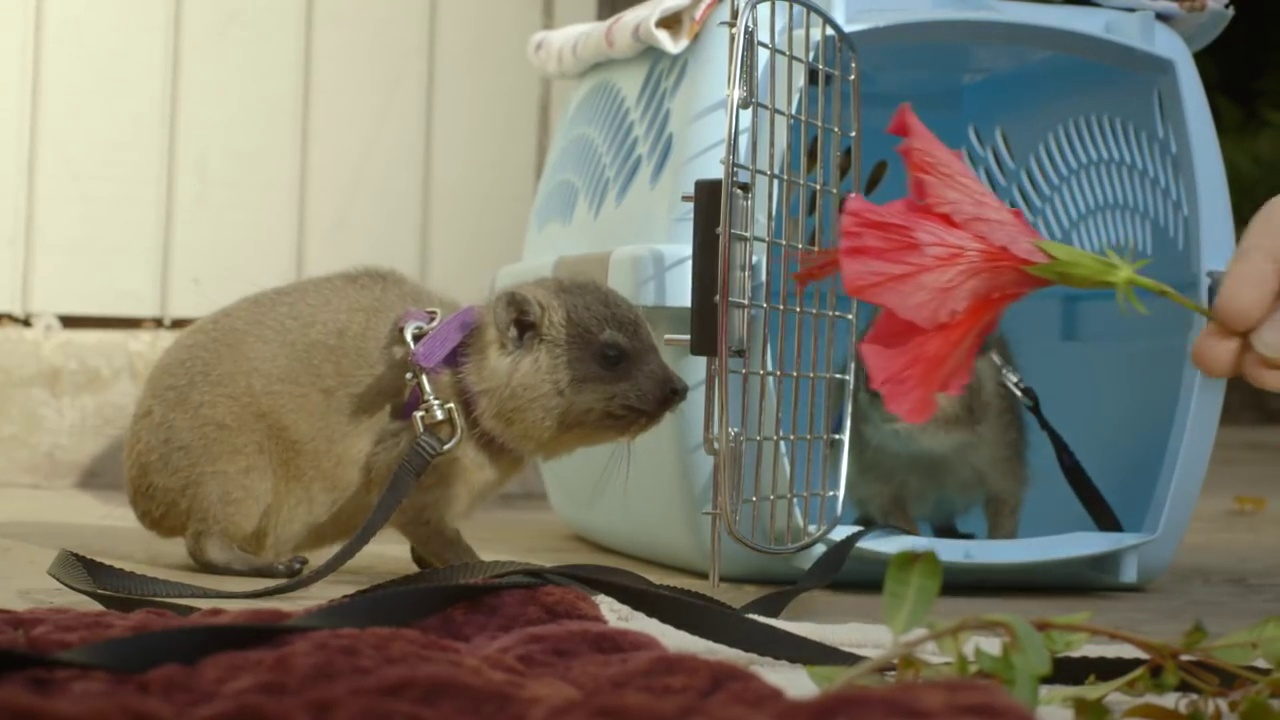Rock Hyrex: (116, 259, 690, 593)
